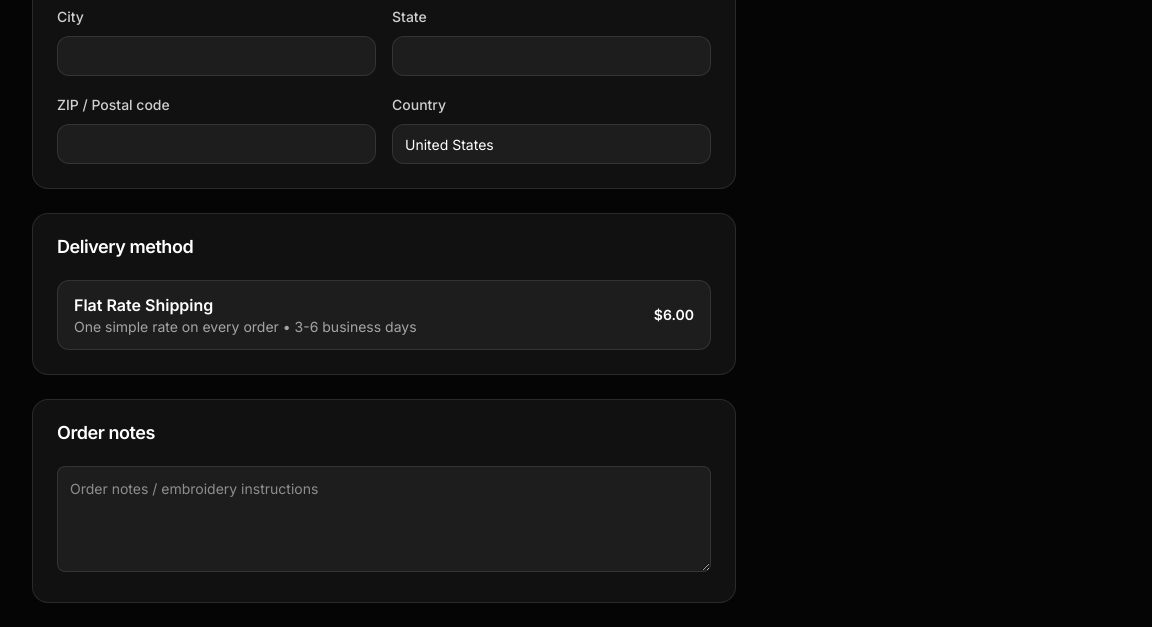
Test: Checkout quote state machine › applies promo successfully and renders discount row with updated totals
(page scrolled)
Click the button with test id "shipping-option-flat".
click(384, 315)  # box [57,280,711,350]
(page scrolled)
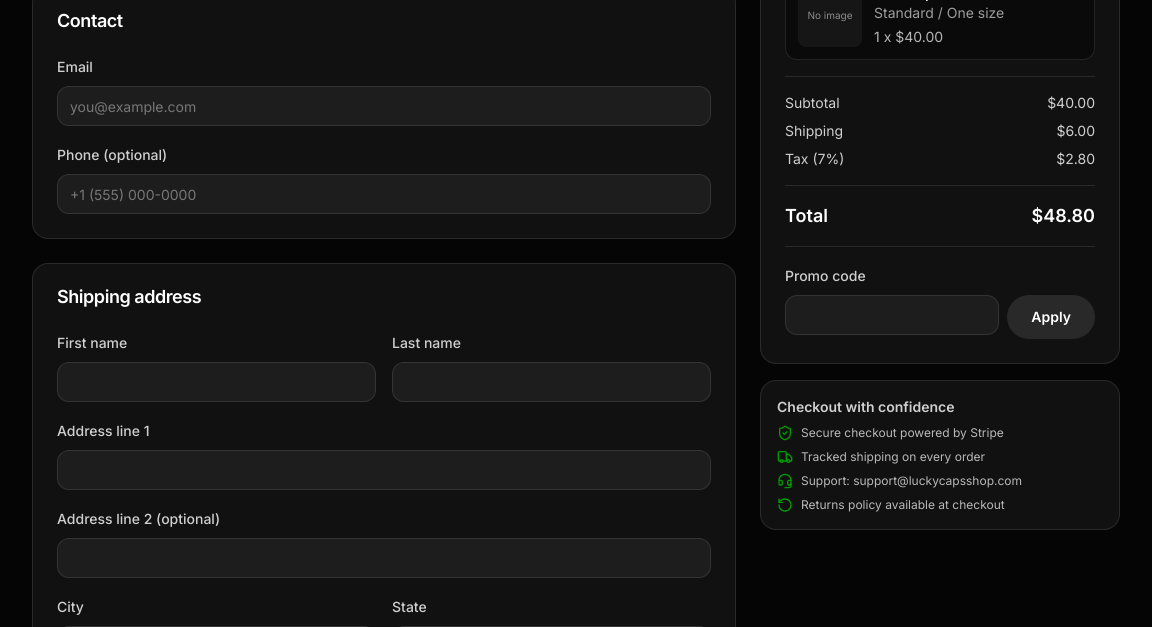
Expected: the text with test id "checkout-total-value" reads "$48.80", [1032,205,1095,226]
Type "E2E10" into the field with test id "checkout-promo-input".
click(892, 315); type("E2E10")  # box [785,295,999,335]
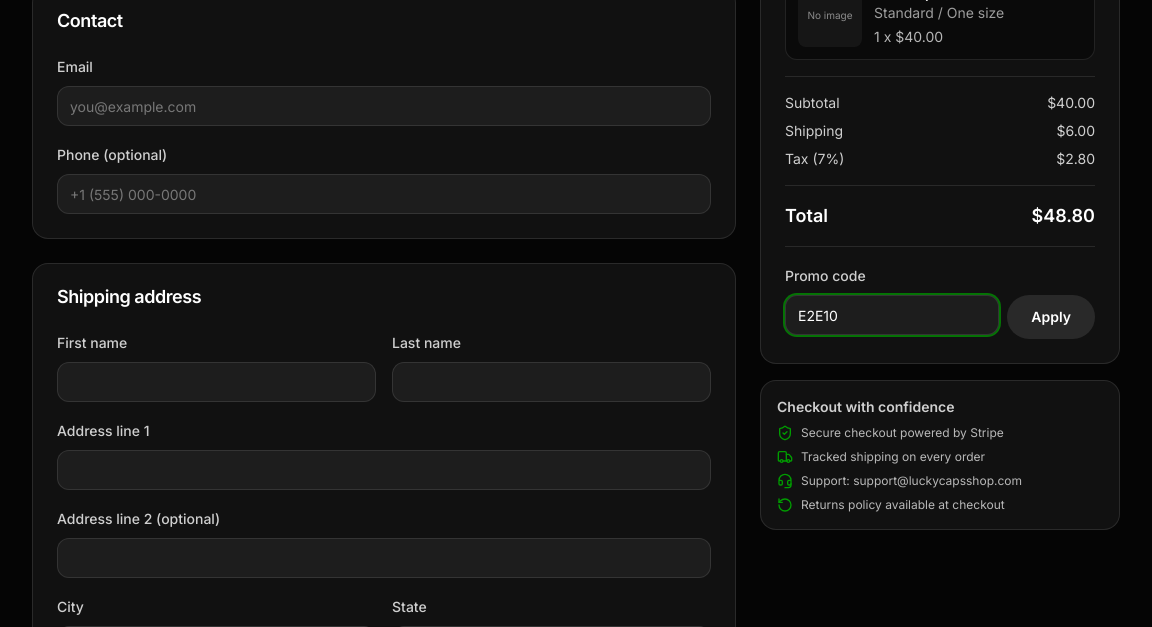
Click the button with test id "checkout-promo-apply".
click(1051, 317)  # box [1007,295,1095,339]
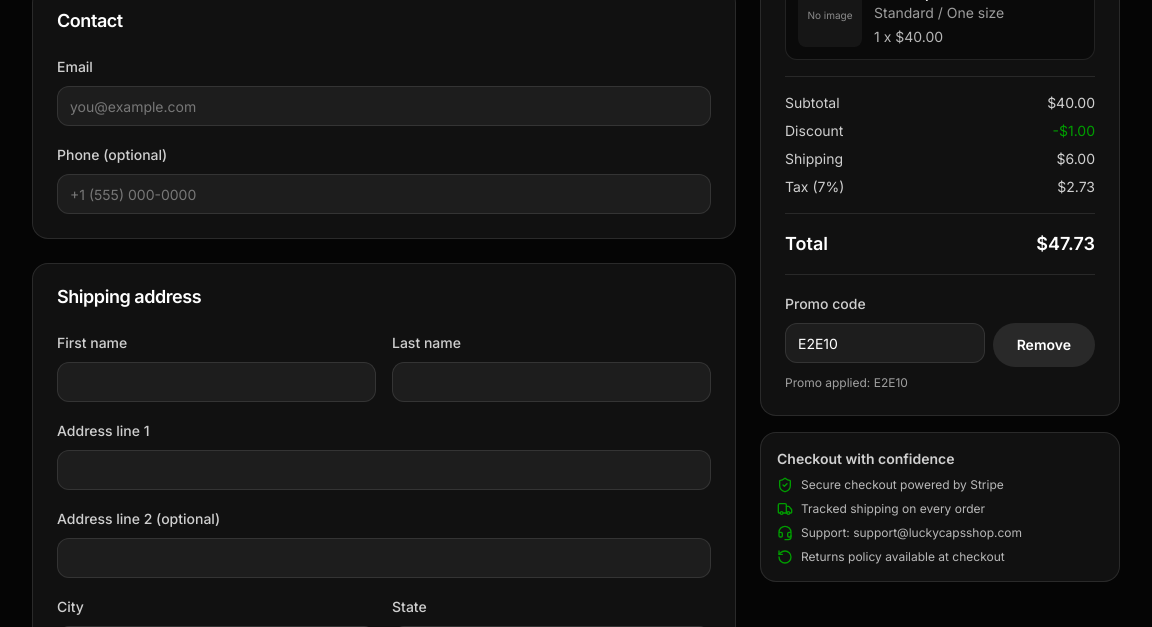
Expected: the text with test id "checkout-discount-value" reads "-$1.00", [1052,122,1095,139]
Expected: the text with test id "checkout-tax-value" reads "$2.73", [1057,178,1095,195]
Expected: the text with test id "checkout-total-value" reads "$47.73", [1036,233,1095,254]
